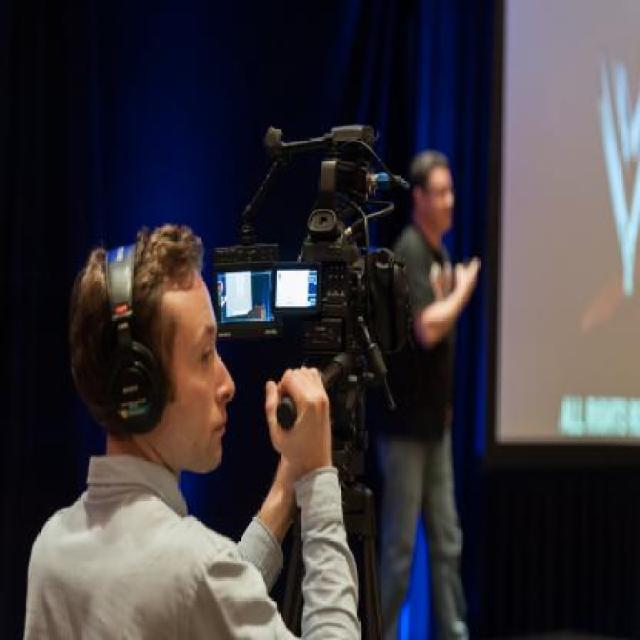earphone: (92, 240, 172, 448)
